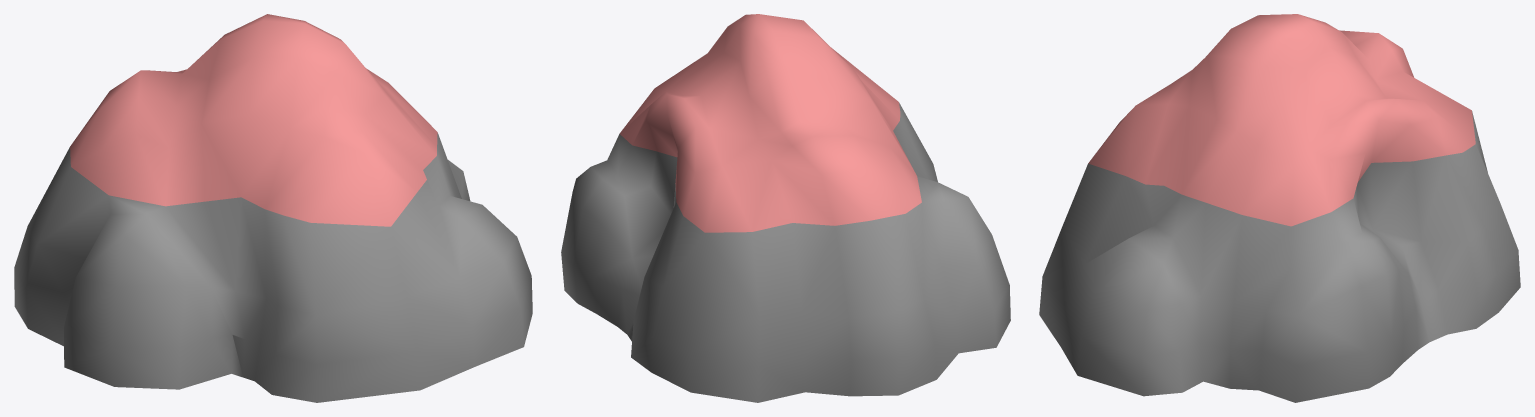
The model's file is sporeseastone03.gltf.
The picture shows the model from 3 angles, left to right: view 1: azimuth 30°, elevation 25°; view 2: azimuth 150°, elevation 25°; view 3: azimuth 270°, elevation 25°; orthographic projection. The views are drawn at different scales.
Parts seen in each view (by area): view 1: sporeseastone03; view 2: sporeseastone03; view 3: sporeseastone03.
Boxes of the visible parts, x1,y1,x2,y2 form: sporeseastone03: (14, 14, 532, 402); sporeseastone03: (561, 14, 1010, 402); sporeseastone03: (1039, 14, 1520, 402).
Bounding box in the file's own units: 2.85 × 1.82 × 2.77.
